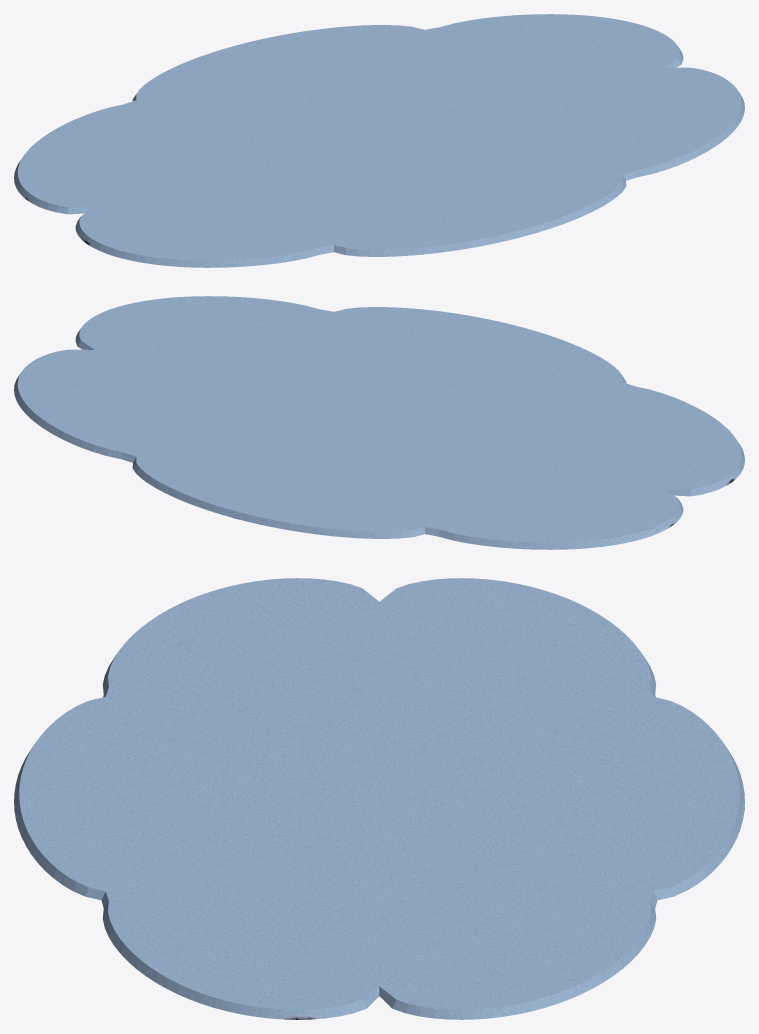
Rendered from rug-cloud-blue.glb.
The picture shows the model from 3 angles, top to bottom: view 1: azimuth 30°, elevation 25°; view 2: azimuth 150°, elevation 25°; view 3: azimuth 270°, elevation 25°; orthographic projection. The views are drawn at different scales.
Parts seen in each view (by area): view 1: rug-cloud-blue; view 2: rug-cloud-blue; view 3: rug-cloud-blue.
Part boxes in pixels (box(x1,y1,x2,y2)): rug-cloud-blue: box(14, 14, 744, 267); rug-cloud-blue: box(14, 296, 744, 549); rug-cloud-blue: box(14, 578, 744, 1019).
Size of the model in its own units: 1.2 by 0.00996 by 0.85.
Materials: 1 (1 with a texture image).
